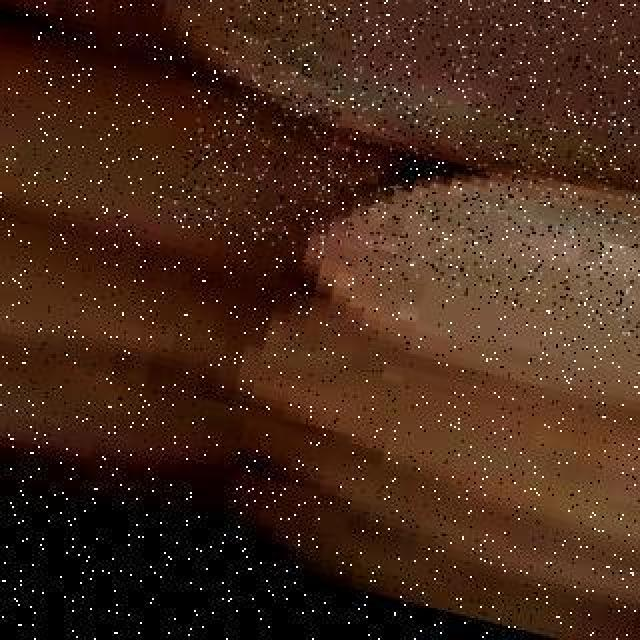cavities: (166, 0, 640, 406)
maligned: (282, 102, 640, 516)
